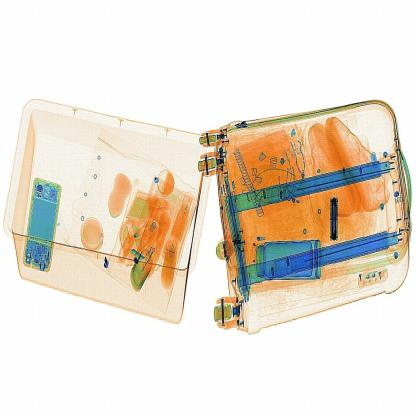scissors: (326, 191, 341, 243)
